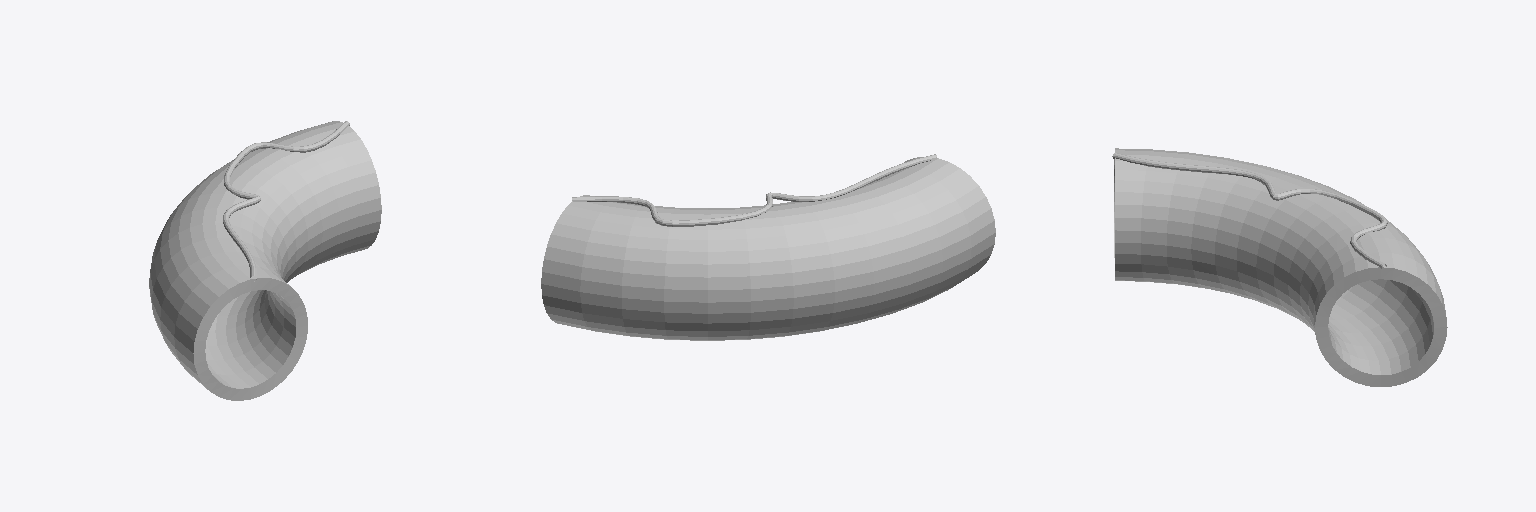
File: Detailed Curving Tube.obj
3 renders of one model, left to right at view 1: azimuth 30°, elevation 25°; view 2: azimuth 150°, elevation 25°; view 3: azimuth 270°, elevation 25°, orthographic.
Visible parts, largest first — view 1: Cylinder, BezierCurve; view 2: Cylinder, BezierCurve; view 3: Cylinder, BezierCurve.
Part boxes in pixels (left/top/right/bottom): Cylinder: left=149, top=121, right=381, bottom=400; BezierCurve: left=223, top=121, right=349, bottom=281; Cylinder: left=541, top=157, right=995, bottom=340; BezierCurve: left=572, top=154, right=936, bottom=226; Cylinder: left=1114, top=148, right=1447, bottom=386; BezierCurve: left=1112, top=153, right=1387, bottom=268.
Bounding box in the file's own units: 5.06 × 2.05 × 5.05.